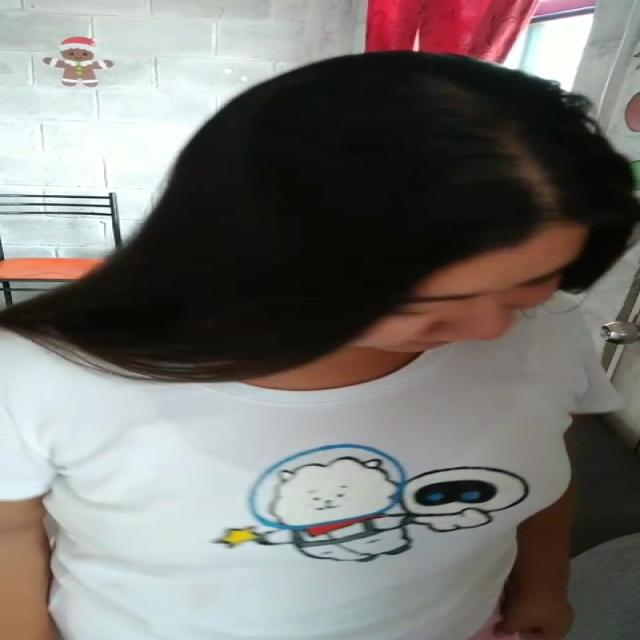9_cabeza_baja: (164, 52, 640, 352)
